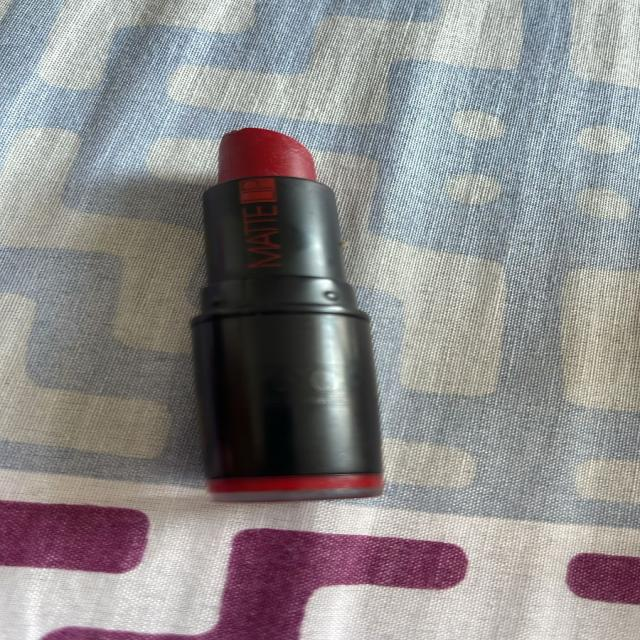lip stick: (179, 100, 408, 518)
